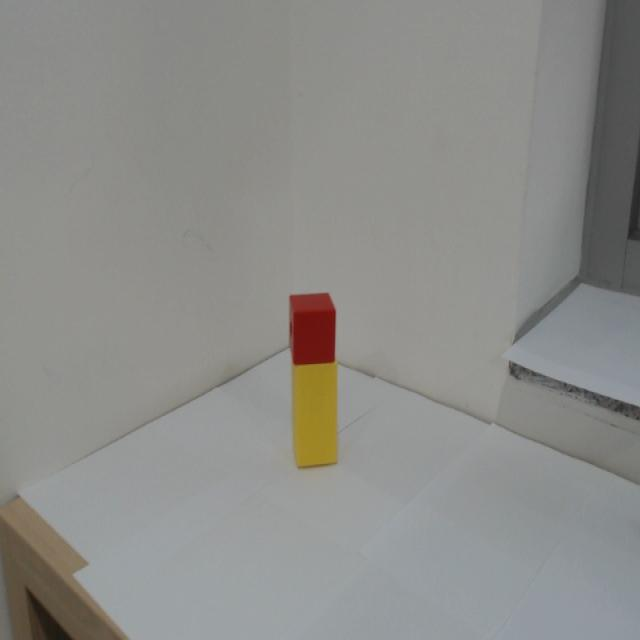cube: (280, 292, 341, 365)
